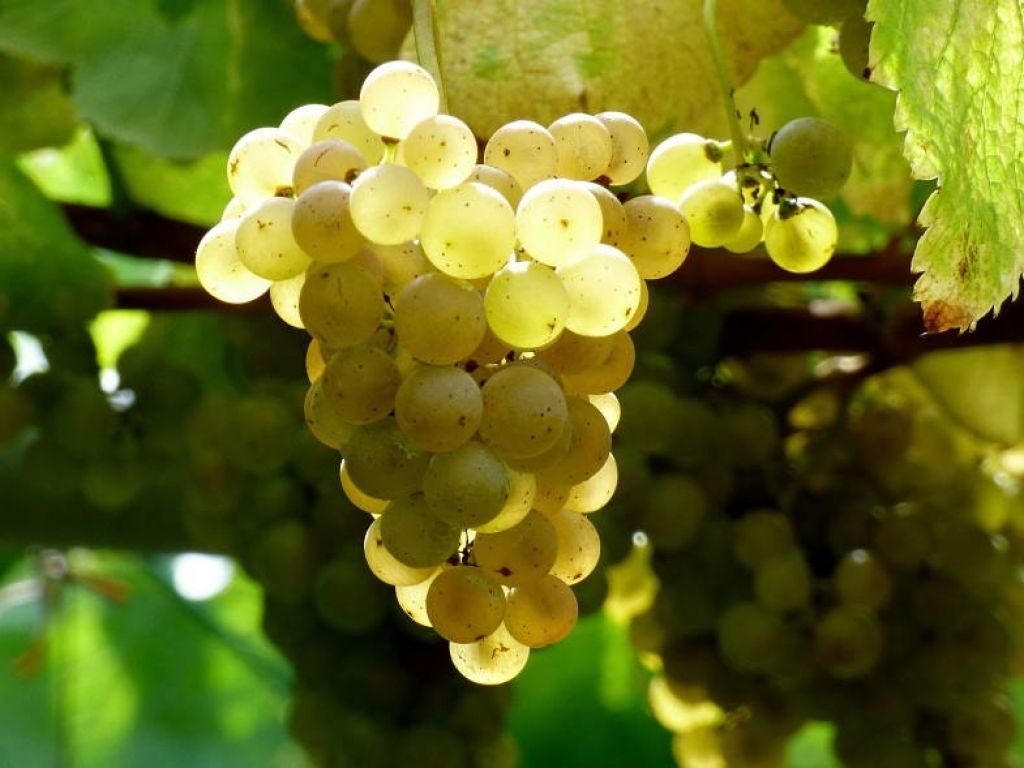Green grapes: (323, 140, 586, 602)
